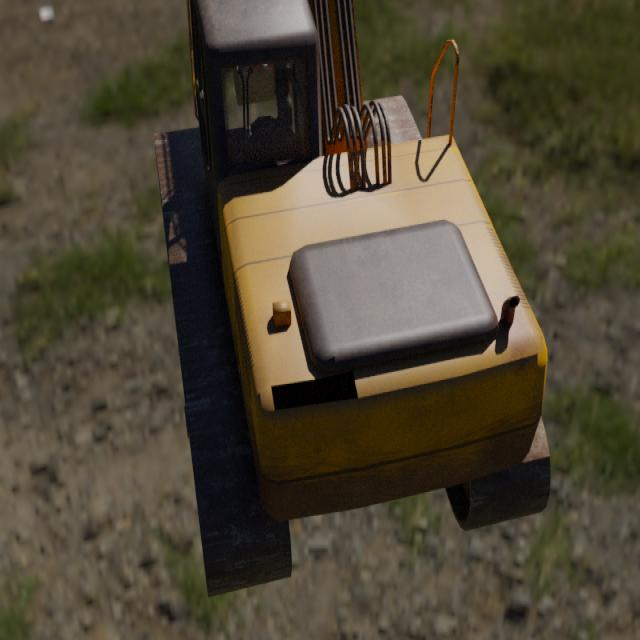excavator: (153, 0, 551, 599)
